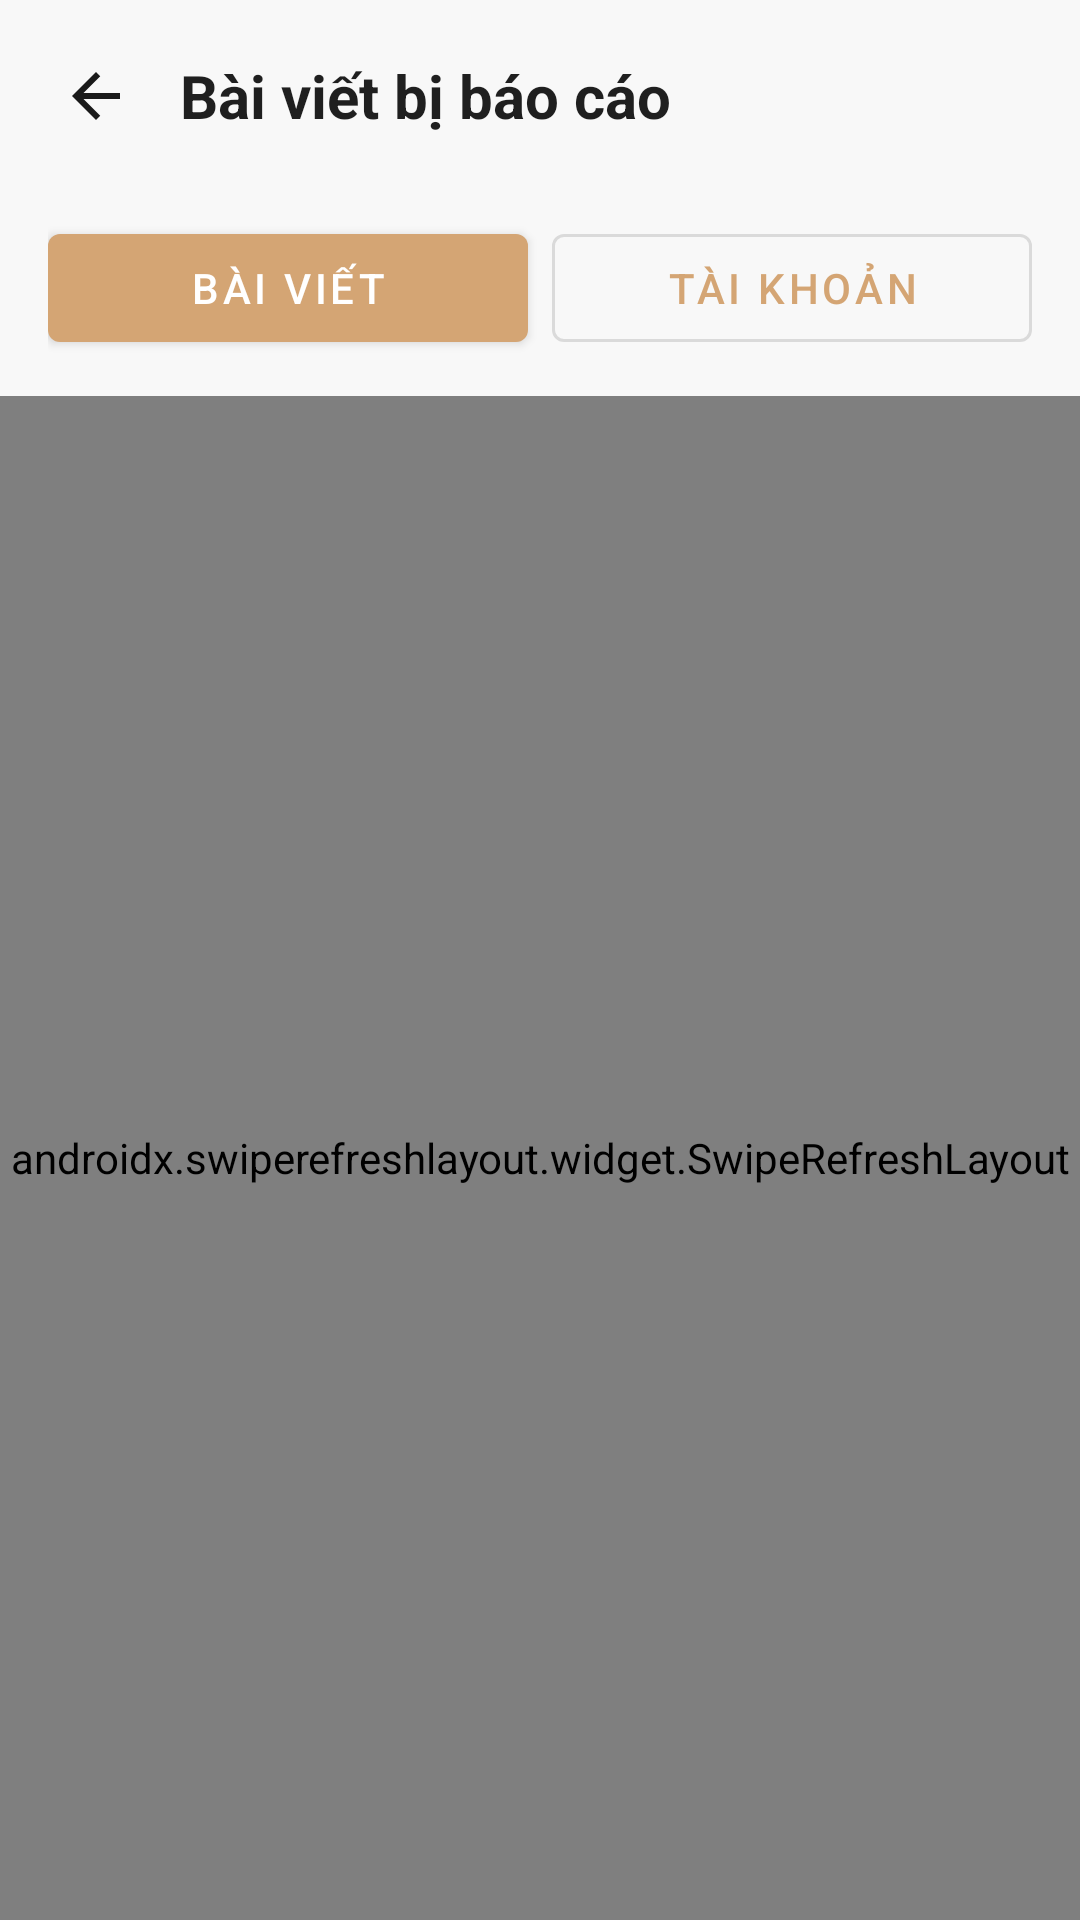

Locate icon controls on the screen. Image size 1080w x 1920h, boxes as (x1, y1, x2, y2).
Quay lại: (72, 72, 120, 120)
